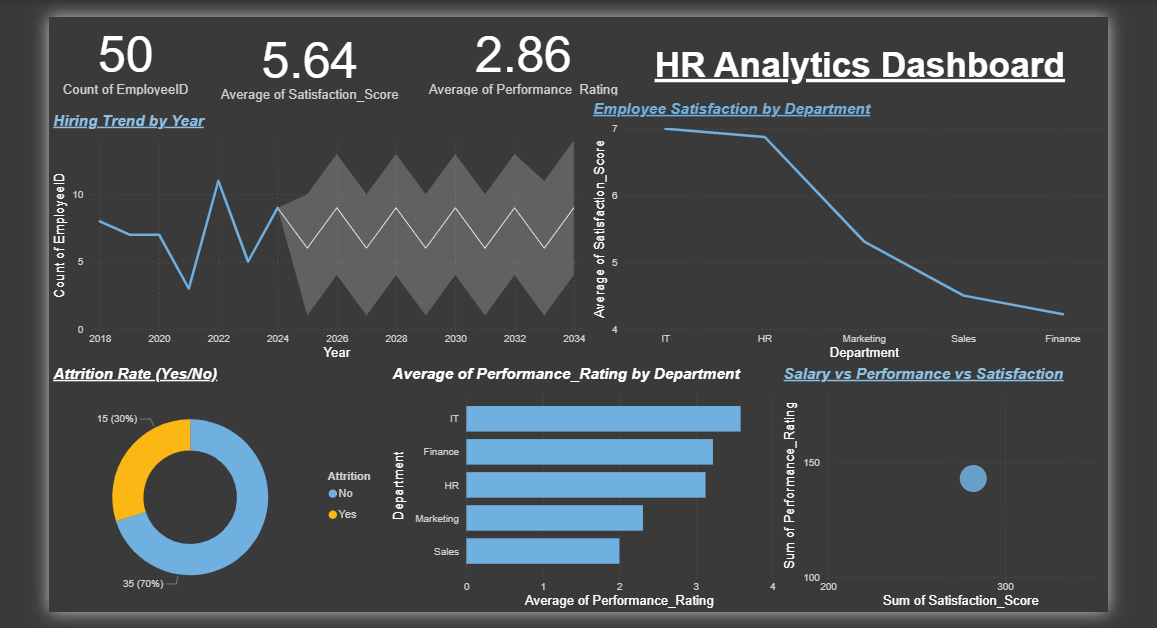

The dashboard page shown, as its layout file describes it:
{"tool":"powerbi","page":{"name":"Page 1","canvas":[1280,720],"ordinal":0},"visuals":[{"type":"lineChart","title":"Hiring Trend by Year","fields":{"Category":["Sheet1.Join_Date.Variation.Date Hierarchy.Year"],"Y":["CountNonNull(Sheet1.EmployeeID)"]},"box":[0,114,654,306],"z":0},{"type":"donutChart","title":"Attrition Rate (Yes/No)","fields":{"Y":["CountNonNull(Sheet1.EmployeeID)"],"Category":["Sheet1.Attrition"]},"box":[0,420,410,300],"z":1000},{"type":"lineChart","title":"Employee Satisfaction by Department","fields":{"Category":["Sheet1.Department"],"Y":["Avg(Sheet1.Satisfaction_Score)"]},"box":[654,100,626,320],"z":2000},{"type":"barChart","fields":{"Category":["Sheet1.Department"],"Y":["Avg(Sheet1.Performance_Rating)"]},"box":[410,420,474,300],"z":3000},{"type":"scatterChart","title":"Salary vs Performance vs Satisfaction","fields":{"X":["Sum(Sheet1.Satisfaction_Score)"],"Y":["Sum(Sheet1.Performance_Rating)"],"Size":["Sum(Sheet1.Salary)"]},"box":[884,420,396,300],"z":4000},{"type":"card","fields":{"Values":["CountNonNull(Sheet1.EmployeeID)"]},"box":[0,0,186,100],"z":5000},{"type":"card","fields":{"Values":["Avg(Sheet1.Satisfaction_Score)"]},"box":[186,0,260,114],"z":6000},{"type":"card","fields":{"Values":["Avg(Sheet1.Performance_Rating)"]},"box":[446,0,254,100],"z":7000},{"type":"textbox","box":[700,0,580,100],"z":8000}]}

Visuals, with their boxes on the page's 1280x720 design canvas (x1, y1, x2, y2). These are canvas units, not pixel positions in the 1157x628 screenshot, which may show the page scaled, cropped or inside an application window:
"Hiring Trend by Year" lineChart: 0:114:654:420
"Attrition Rate (Yes/No)" donutChart: 0:420:410:720
"Employee Satisfaction by Department" lineChart: 654:100:1280:420
barChart - Sheet1.Department x Avg(Sheet1.Performance_Rating): 410:420:884:720
"Salary vs Performance vs Satisfaction" scatterChart: 884:420:1280:720
card - CountNonNull(Sheet1.EmployeeID): 0:0:186:100
card - Avg(Sheet1.Satisfaction_Score): 186:0:446:114
card - Avg(Sheet1.Performance_Rating): 446:0:700:100
textbox: 700:0:1280:100
